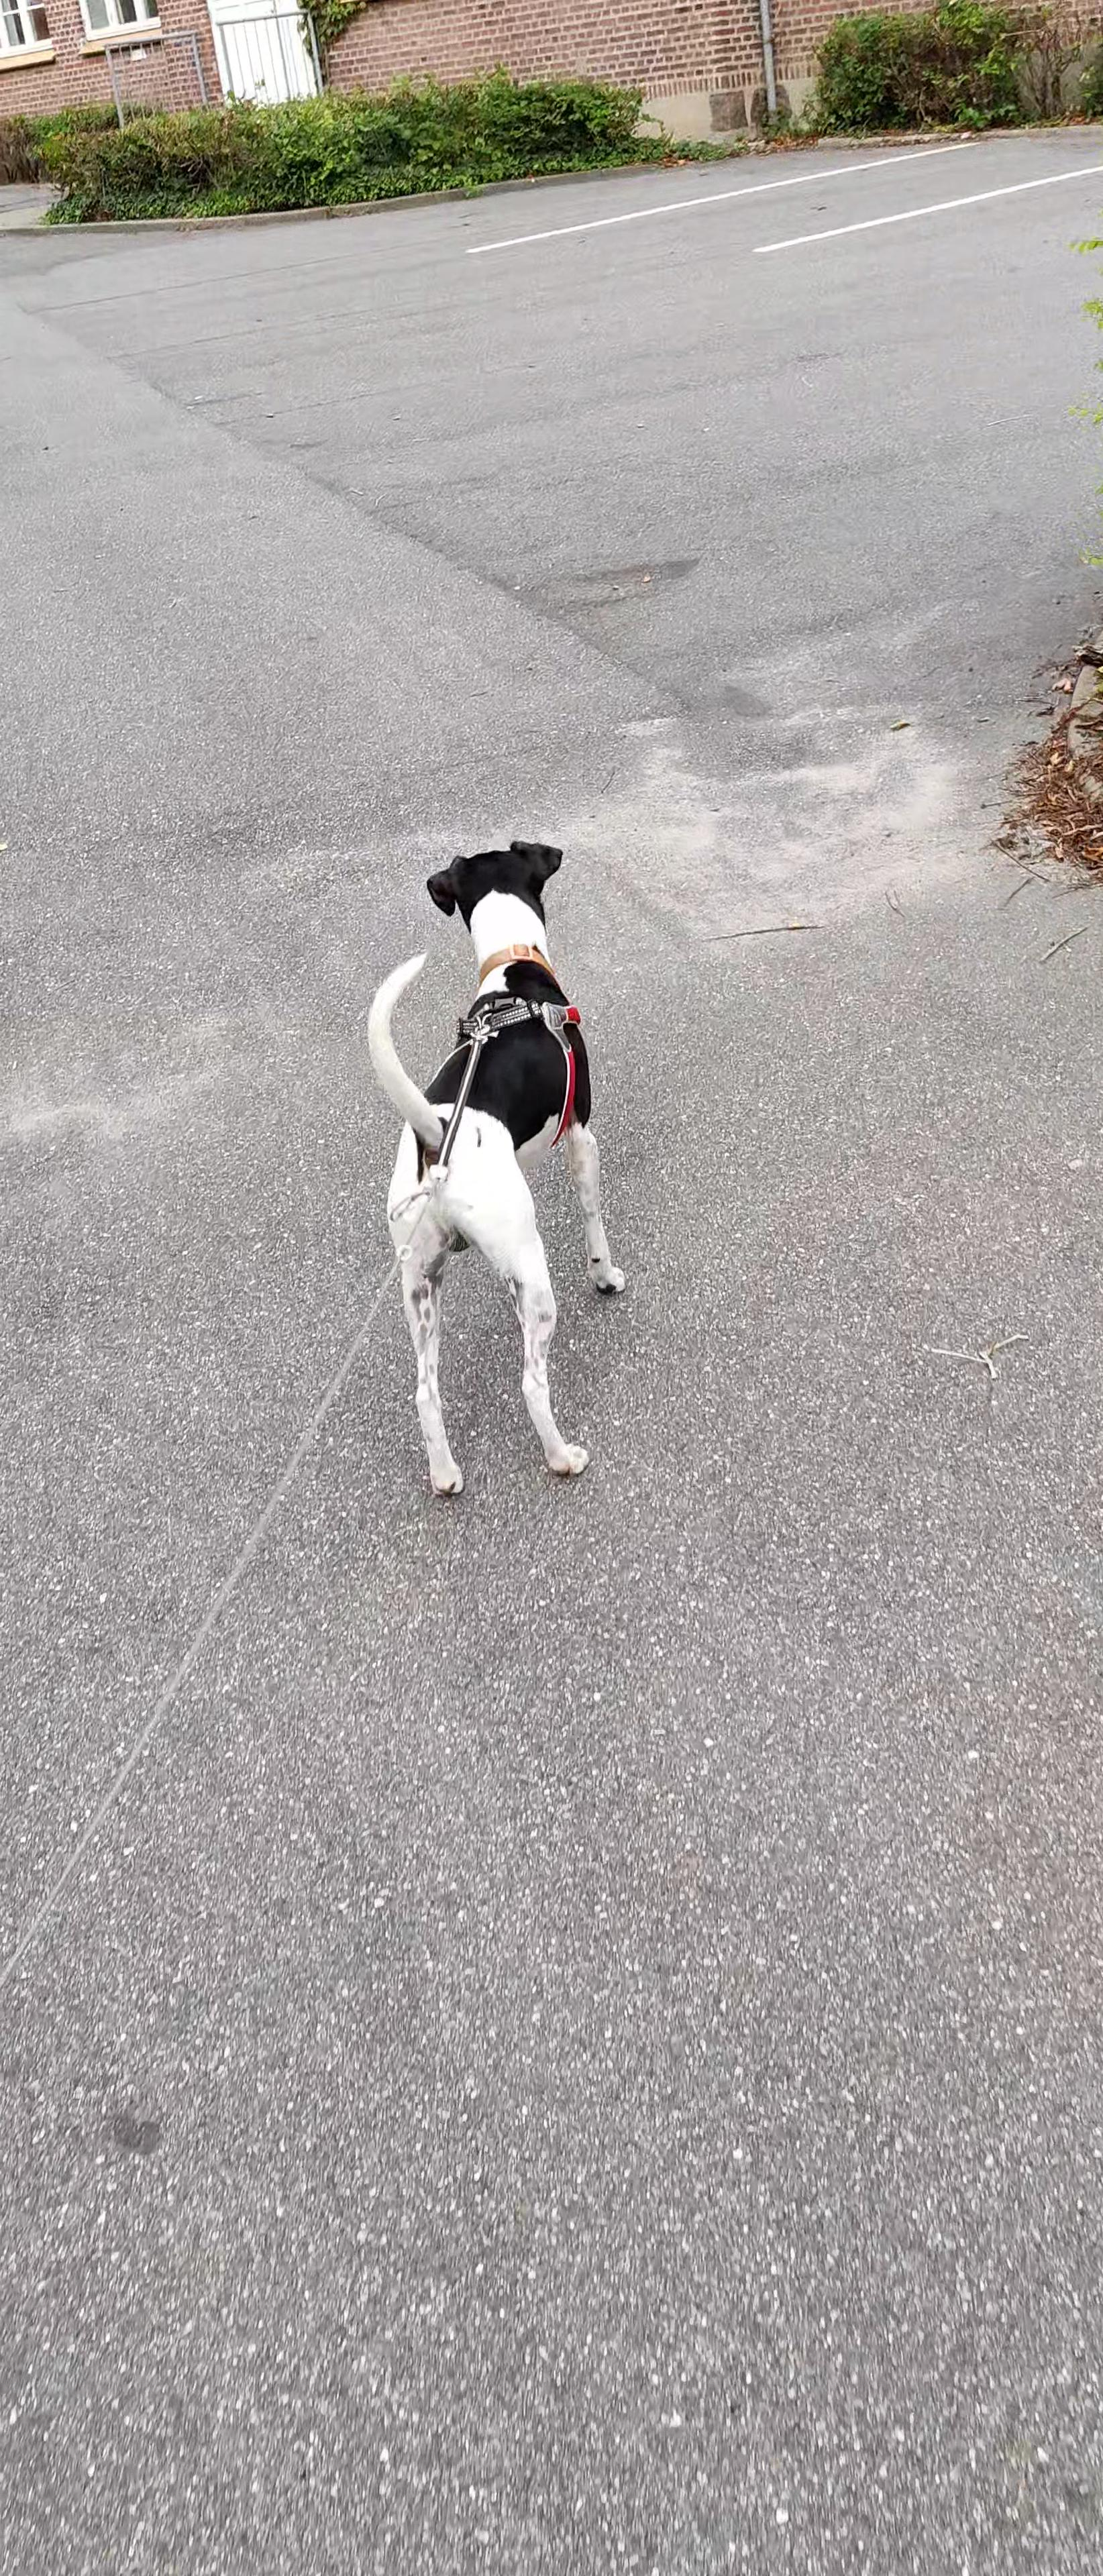Dog: (335, 816, 654, 1515)
